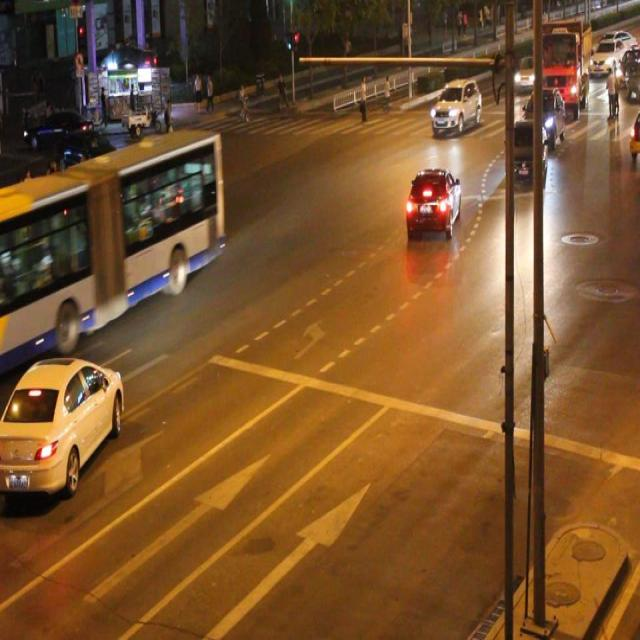car: (0, 357, 124, 494), (404, 165, 460, 240), (56, 207, 116, 275), (504, 121, 545, 187)
van: (1, 127, 220, 370)
